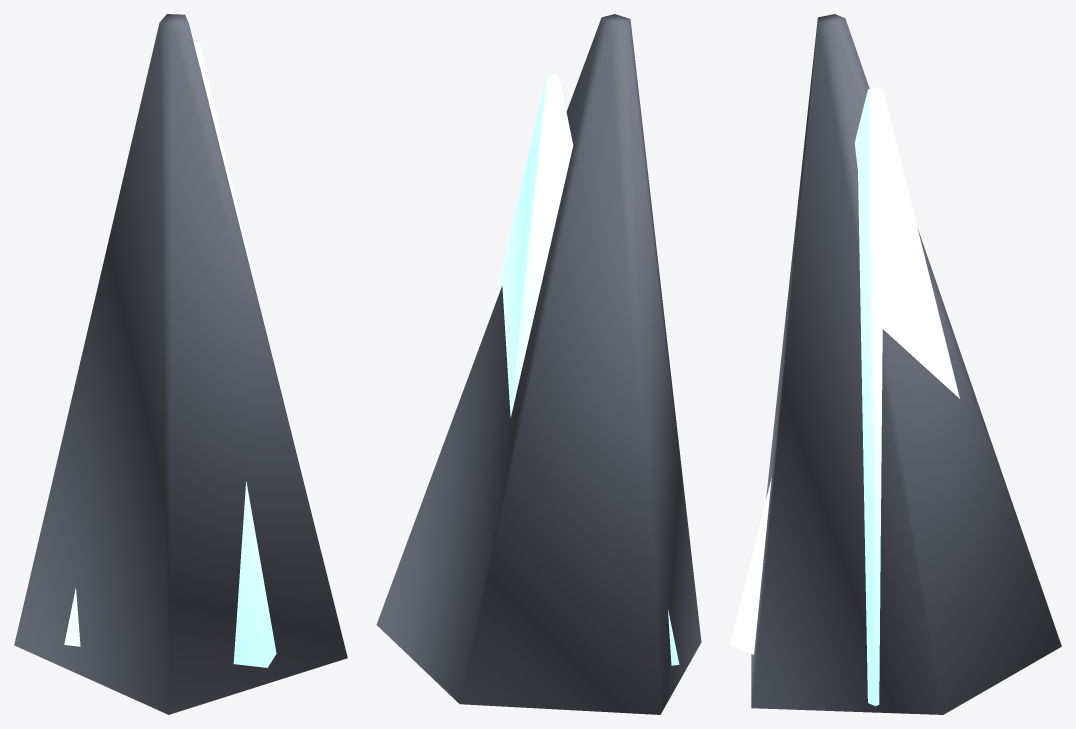
Rendered from rock_needle_peak_ice_spire.glb.
The picture shows the model from 3 angles, left to right: view 1: azimuth 30°, elevation 25°; view 2: azimuth 150°, elevation 25°; view 3: azimuth 270°, elevation 25°; orthographic projection. The views are drawn at different scales.
Parts seen in each view (by area): view 1: Needle_Peak_Summit, Glacier_Sheath; view 2: Needle_Peak_Summit, Glacier_Sheath; view 3: Needle_Peak_Summit, Glacier_Sheath.
Boxes of the visible parts, <box> form: Needle_Peak_Summit: <box>14,14,347,714</box>; Glacier_Sheath: <box>64,42,276,667</box>; Needle_Peak_Summit: <box>376,14,701,714</box>; Glacier_Sheath: <box>493,74,679,665</box>; Needle_Peak_Summit: <box>751,14,1061,714</box>; Glacier_Sheath: <box>730,86,959,706</box>.
Bounding box in the file's own units: 8.54 × 18.43 × 8.67.
